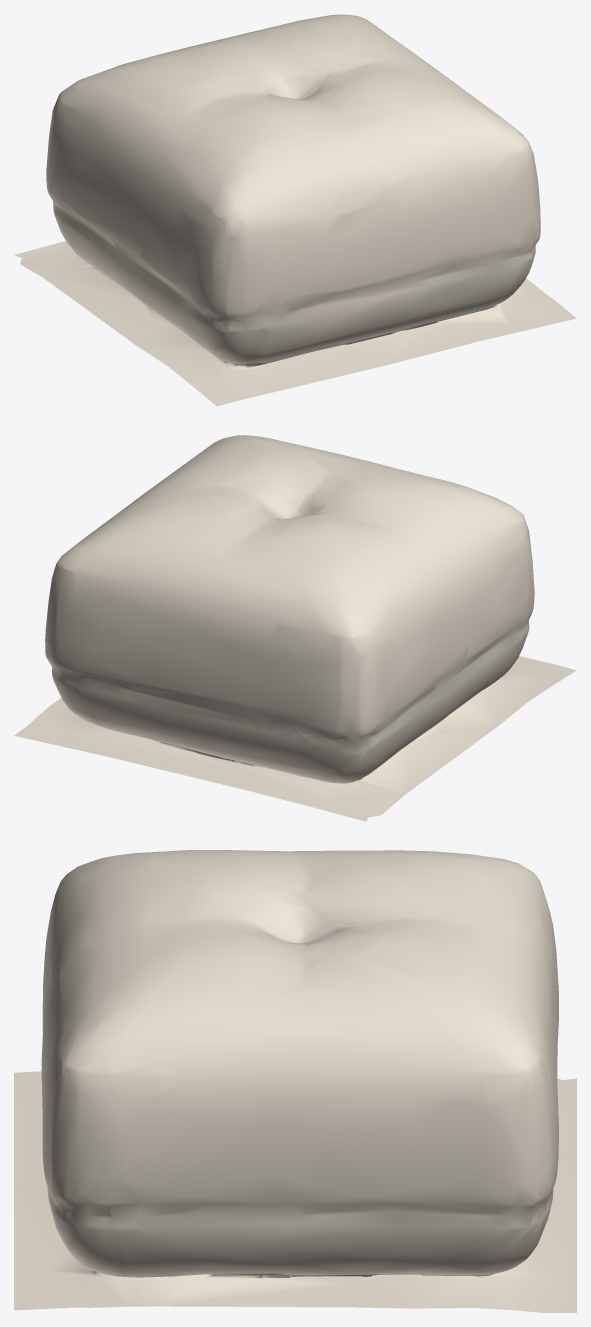
Rendered from show_bedroom_pouf.glb.
3 views of the same model, one above another, from view 1: azimuth 30°, elevation 25°; view 2: azimuth 150°, elevation 25°; view 3: azimuth 270°, elevation 25° (orthographic). The views are drawn at different scales.
Size of the model in its own units: 0.86 by 0.48 by 0.86.
